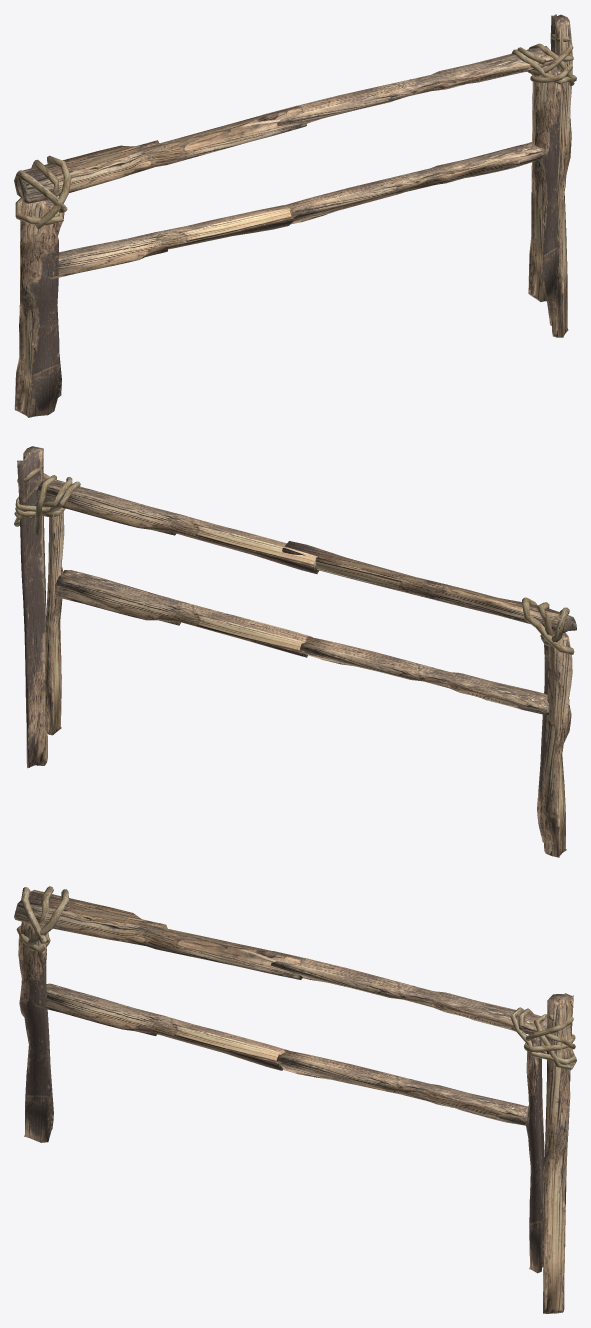
File: Fence1.fbx
3 renders of one model, top to bottom at view 1: azimuth 30°, elevation 25°; view 2: azimuth 150°, elevation 25°; view 3: azimuth 330°, elevation 25°, orthographic.
Visible parts, largest first — view 1: fence1_lod0; view 2: fence1_lod0; view 3: fence1_lod0.
Boxes of the visible parts, x1,y1,x2,y2 form: fence1_lod0: (14,14,576,417); fence1_lod0: (14,446,576,857); fence1_lod0: (14,886,576,1313).
Size of what is drawn, in the model's own units: 323 by 175 by 27.51.
